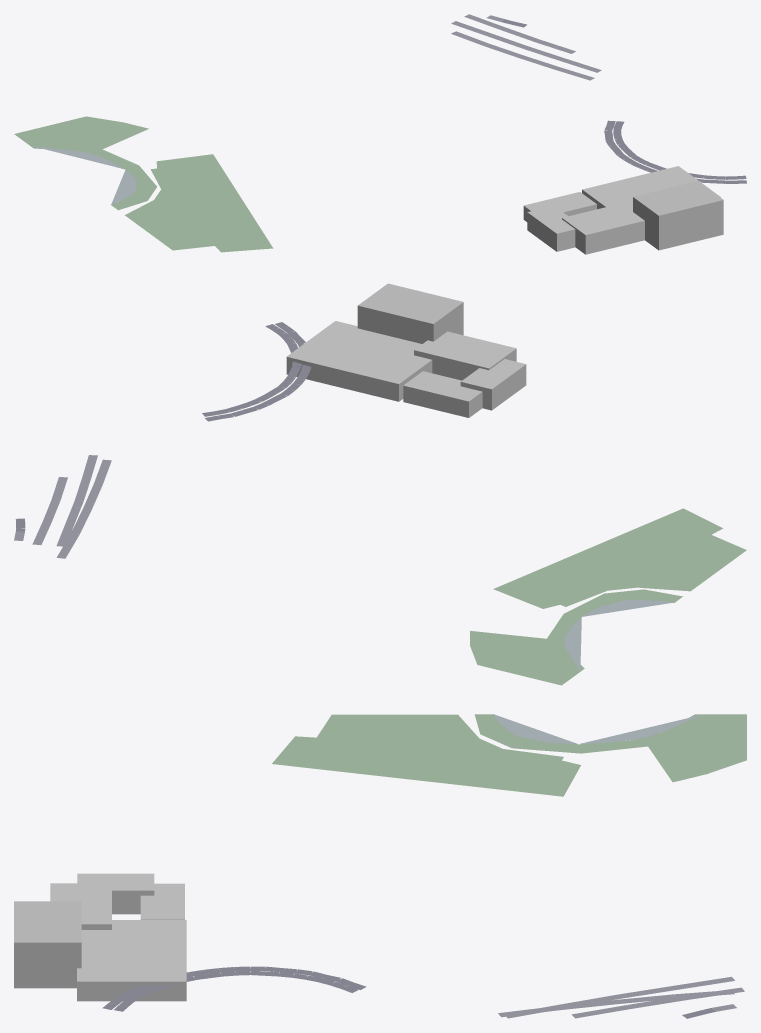
The model's file is 101_83_mid.glb.
3 renders of one model, top to bottom at view 1: azimuth 30°, elevation 25°; view 2: azimuth 150°, elevation 25°; view 3: azimuth 270°, elevation 25°, orthographic. The views are drawn at different scales.
Bounding box in the file's own units: 506 × 34.35 × 495.
